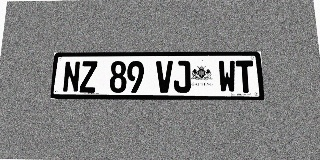8: (109, 61, 127, 93)
9: (127, 61, 144, 93)
J: (173, 61, 191, 93)
N: (62, 61, 81, 93)
T: (236, 60, 255, 93)
V: (156, 61, 173, 93)
W: (218, 60, 237, 93)
Z: (79, 61, 97, 93)
